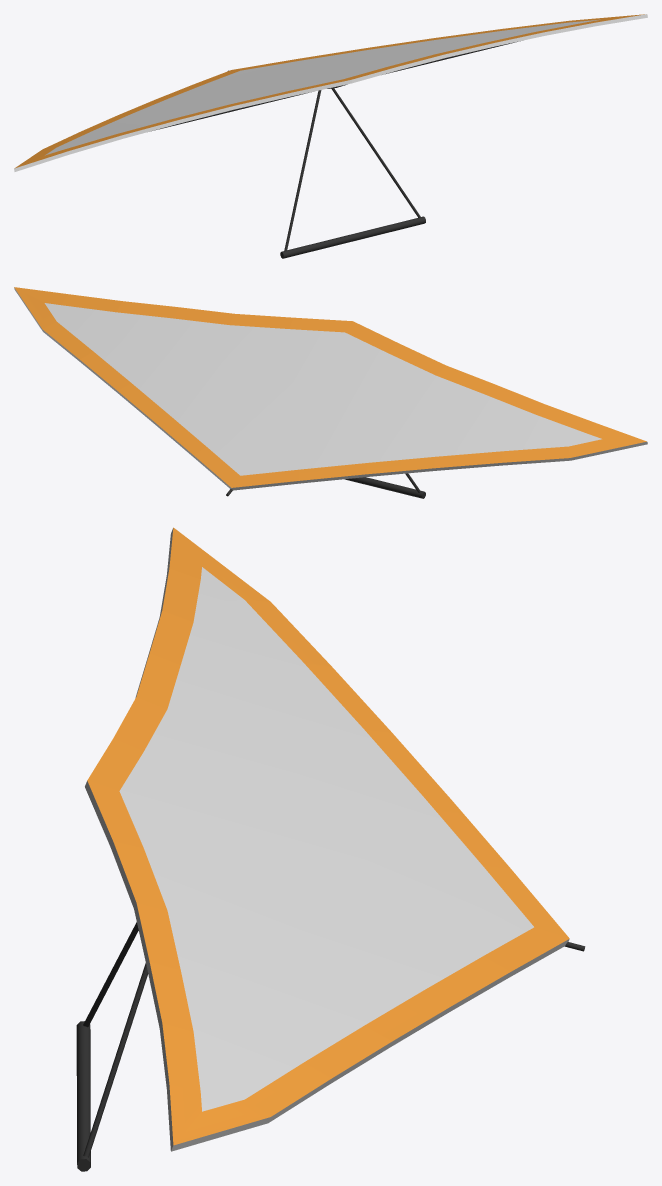
Rendered from e17d4d5d-8678-4794-b31c-670bfd7d9c92.glb.
3 renders of one model, top to bottom at view 1: azimuth 30°, elevation 25°; view 2: azimuth 150°, elevation 25°; view 3: azimuth 270°, elevation 25°, orthographic. The views are drawn at different scales.
Parts seen in each view (by area): view 1: Box001; view 2: Box001; view 3: Box001.
Part boxes in pixels (bbox=[...]): Box001: bbox=[14, 14, 647, 258]; Box001: bbox=[14, 287, 647, 498]; Box001: bbox=[76, 527, 585, 1171].
Size of the model in its own units: 139 by 33.64 by 48.21.
